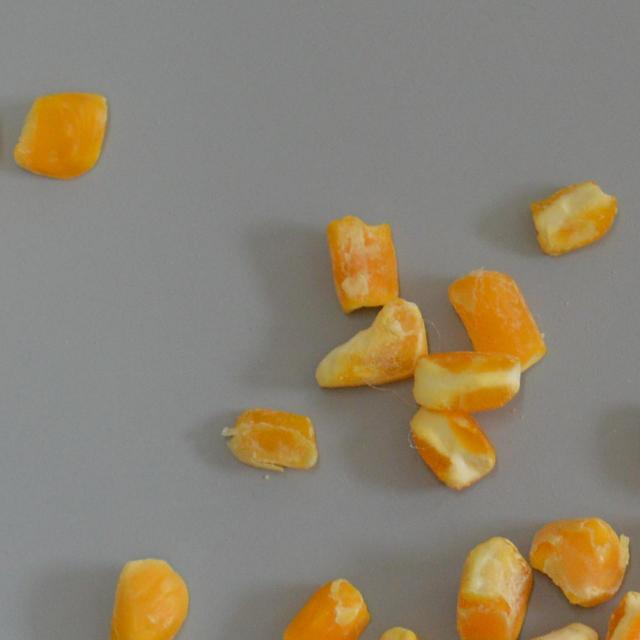no_canjicado: (12, 92, 108, 178)
pelicula: (313, 296, 429, 391), (524, 512, 632, 611), (446, 268, 546, 374), (453, 534, 531, 640), (322, 212, 400, 312), (406, 404, 496, 490), (528, 180, 618, 257), (220, 404, 318, 474), (108, 557, 188, 640), (412, 350, 519, 411), (278, 576, 371, 640), (586, 590, 640, 640), (510, 622, 600, 640), (378, 626, 470, 640)
